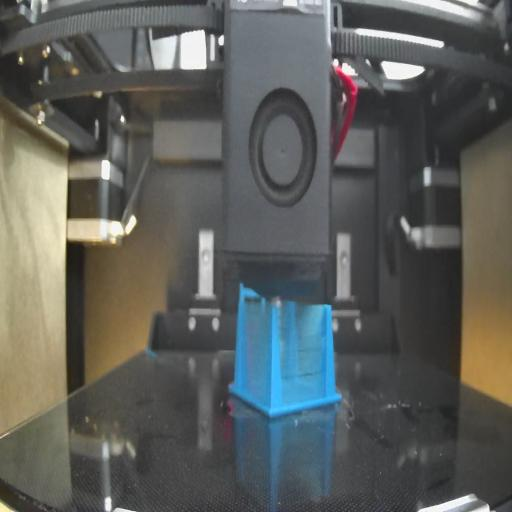stringing: (277, 300, 327, 406), (238, 298, 270, 407)
